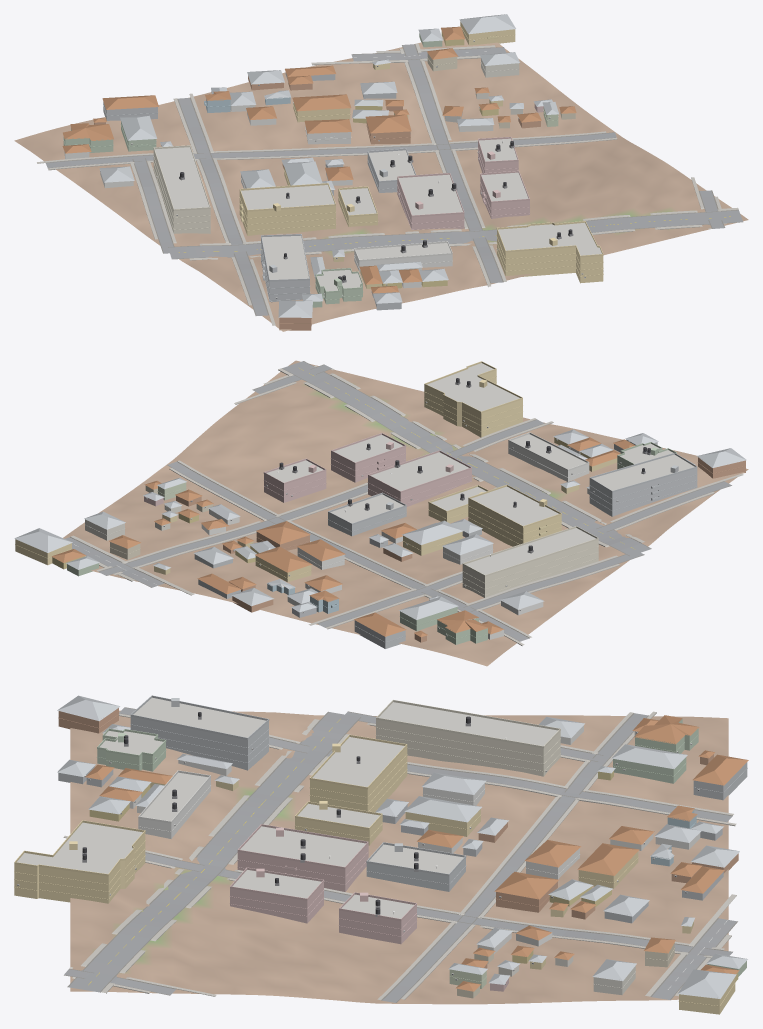
3 renders of one model, top to bottom at view 1: azimuth 30°, elevation 25°; view 2: azimuth 150°, elevation 25°; view 3: azimuth 270°, elevation 25°, orthographic. The views are drawn at different scales.
Visible parts, largest first — view 1: Buildings-col, Terrain-col, Roads-col, Details, Sidewalks-col; view 2: Buildings-col, Terrain-col, Roads-col, Details, Sidewalks-col; view 3: Buildings-col, Terrain-col, Roads-col, Details, Sidewalks-col.
Boxes of the visible parts, left/top/right/bottom form: Buildings-col: left=62, top=14, right=603, bottom=330; Terrain-col: left=14, top=36, right=748, bottom=331; Roads-col: left=45, top=44, right=742, bottom=315; Details: left=63, top=26, right=603, bottom=323; Sidewalks-col: left=37, top=43, right=738, bottom=325; Buildings-col: left=14, top=363, right=746, bottom=648; Terrain-col: left=63, top=360, right=748, bottom=666; Roads-col: left=65, top=361, right=731, bottom=641; Details: left=15, top=361, right=745, bottom=642; Sidewalks-col: left=70, top=365, right=743, bottom=645; Buildings-col: left=14, top=695, right=748, bottom=1014; Terrain-col: left=70, top=710, right=728, bottom=1004; Roads-col: left=64, top=707, right=737, bottom=1002; Details: left=14, top=695, right=747, bottom=1006; Sidewalks-col: left=63, top=711, right=736, bottom=1000.
Size of the model in its own units: 273 by 21.01 by 286.
